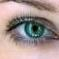eye: (25, 23, 43, 38)
